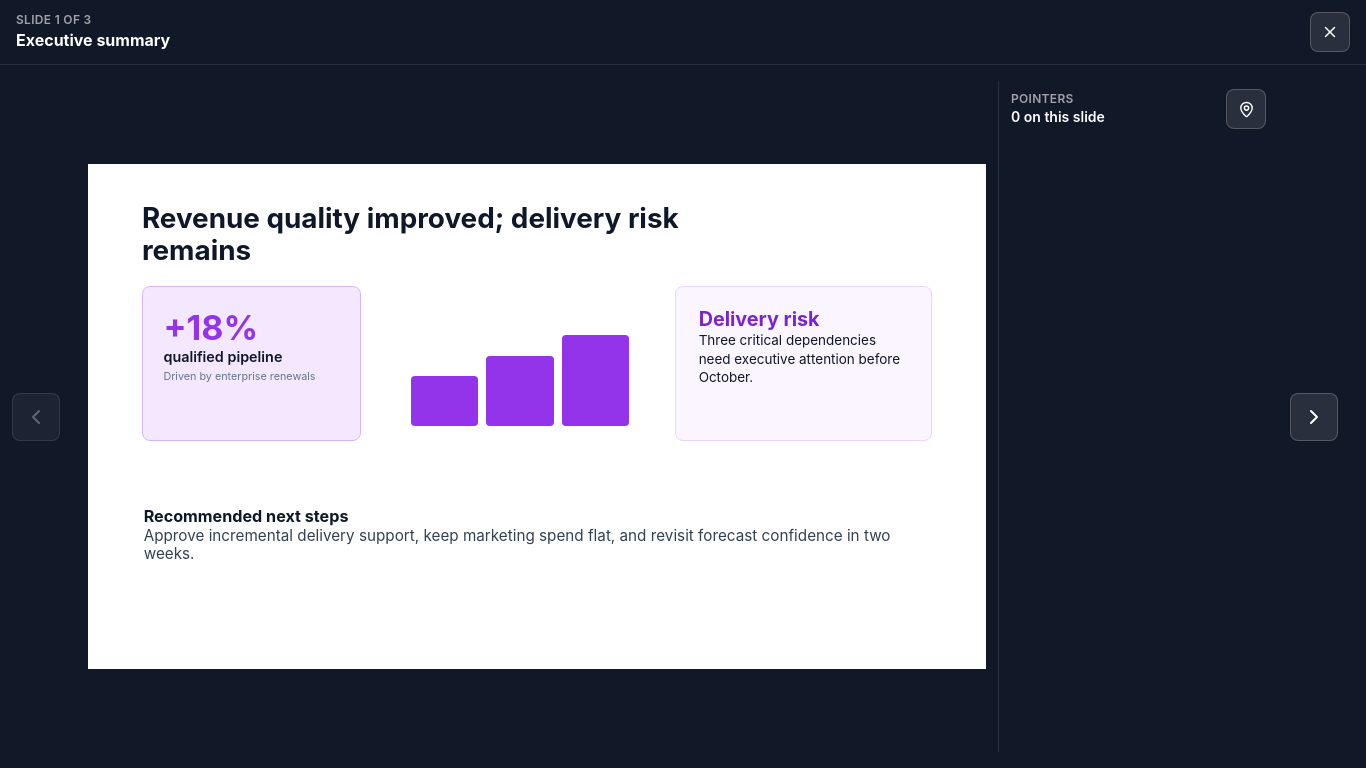
Test: PresentationPreview › navigates with toolbar buttons without closing the preview
Click the button named "Next slide" at coordinates (1314, 416), box [1290, 392, 1338, 440]
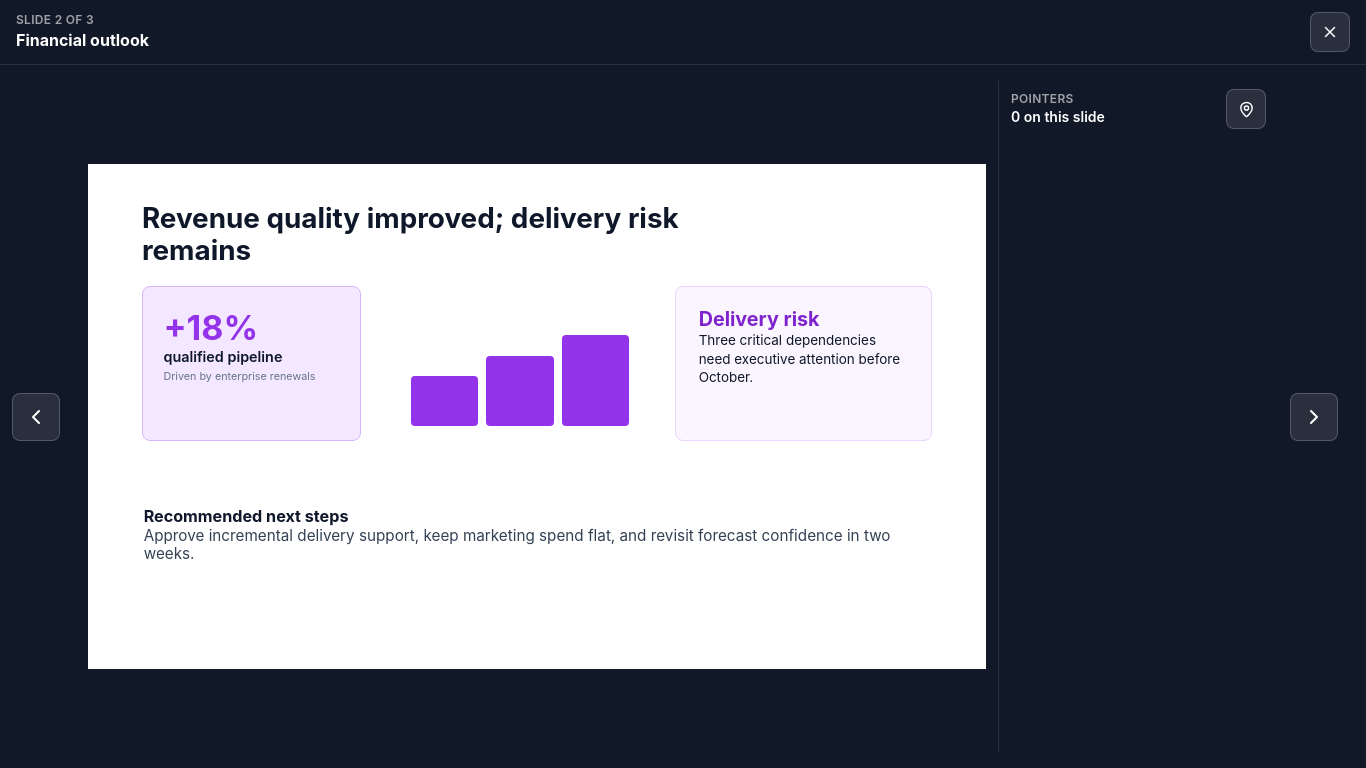
Expected: the text "Slide 2 of 3" is shown, [16, 12, 94, 27]
Click the button named "Previous slide" at coordinates (36, 416), box [12, 392, 60, 440]
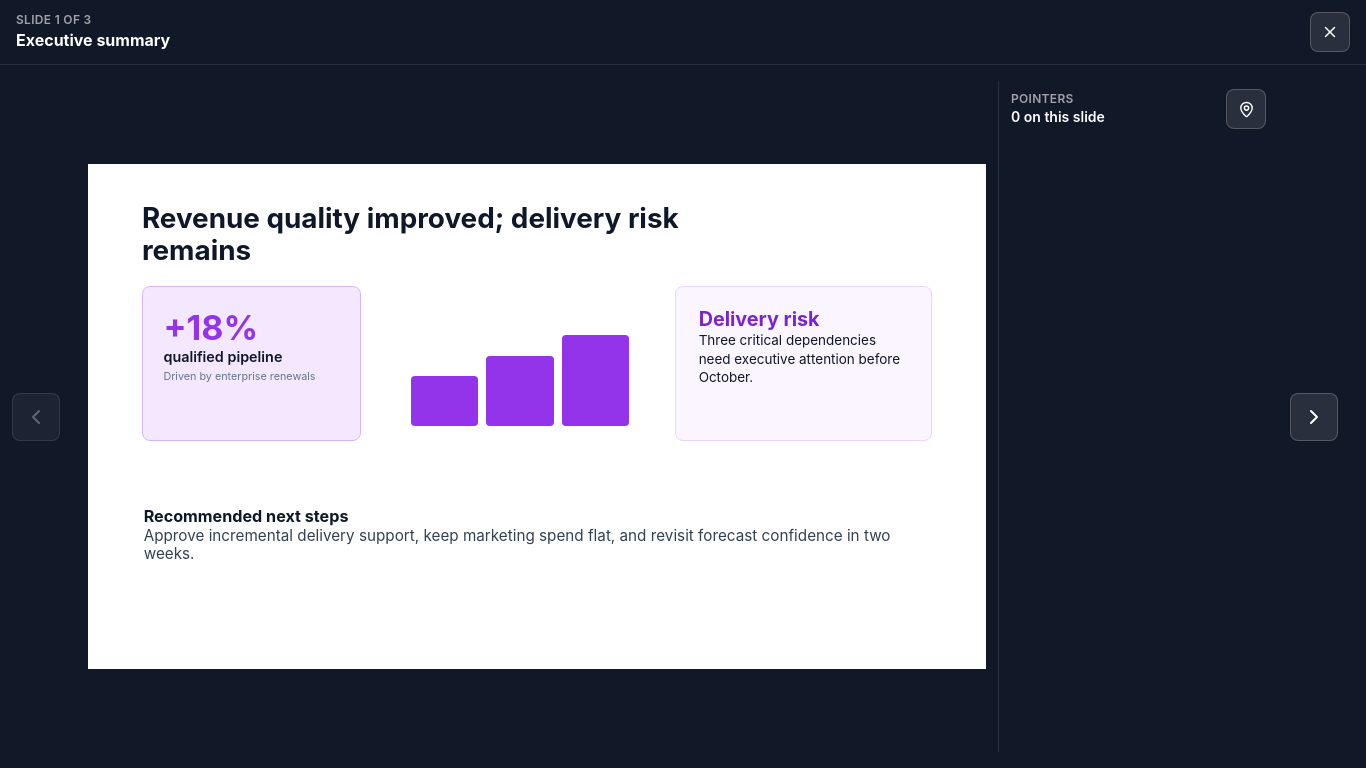
Expected: the text "Slide 1 of 3" is shown, [16, 12, 92, 27]
